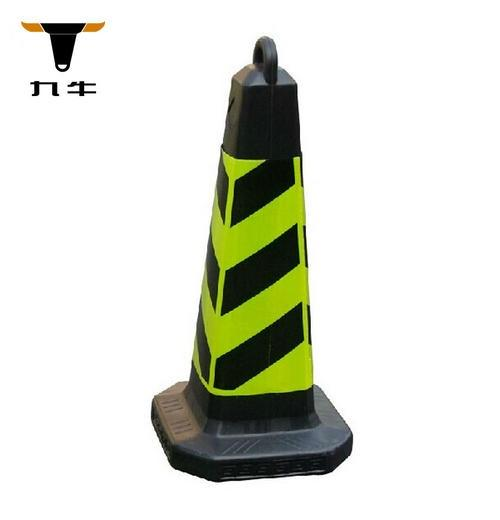cone_barrel: (151, 39, 346, 463)
